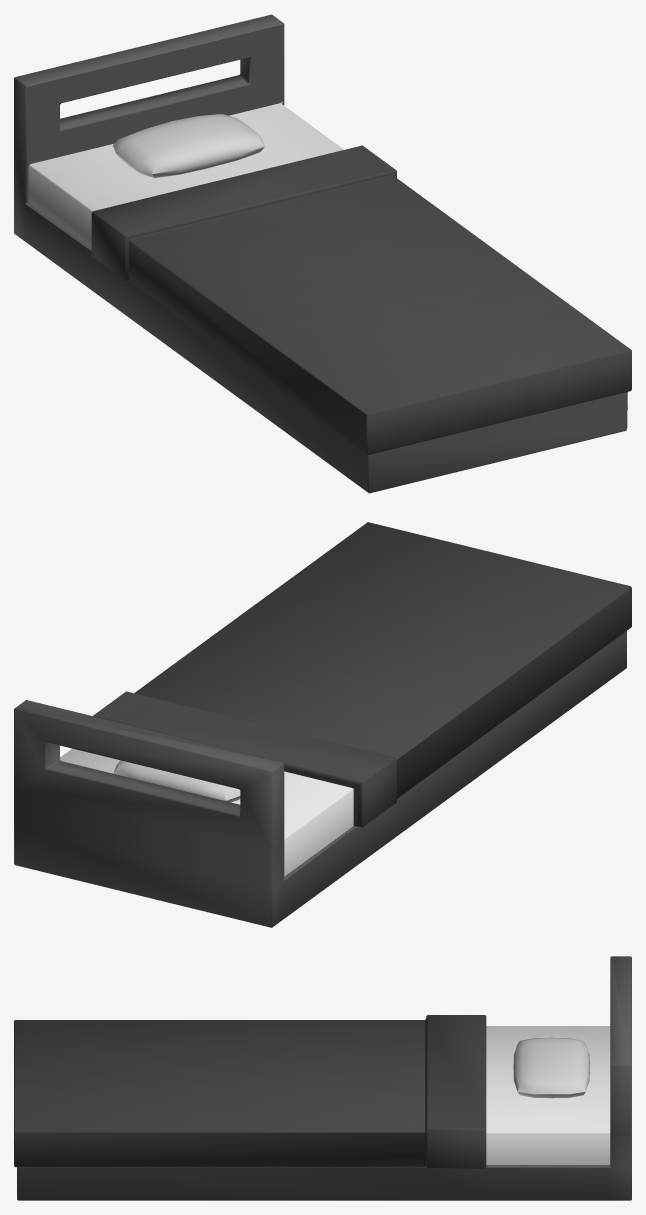
File: Bed_01_02.fbx
The picture shows the model from 3 angles, top to bottom: view 1: azimuth 30°, elevation 25°; view 2: azimuth 150°, elevation 25°; view 3: azimuth 270°, elevation 25°; orthographic projection. The views are drawn at different scales.
Visible parts, largest first — view 1: Bed_01_02; view 2: Bed_01_02; view 3: Bed_01_02.
Boxes of the visible parts, box(x1,y1,x2,y2) form: Bed_01_02: box(14, 14, 631, 493); Bed_01_02: box(14, 522, 631, 927); Bed_01_02: box(14, 956, 631, 1200).
Bounding box in the file's own units: 1.63 × 0.9009 × 3.71.
